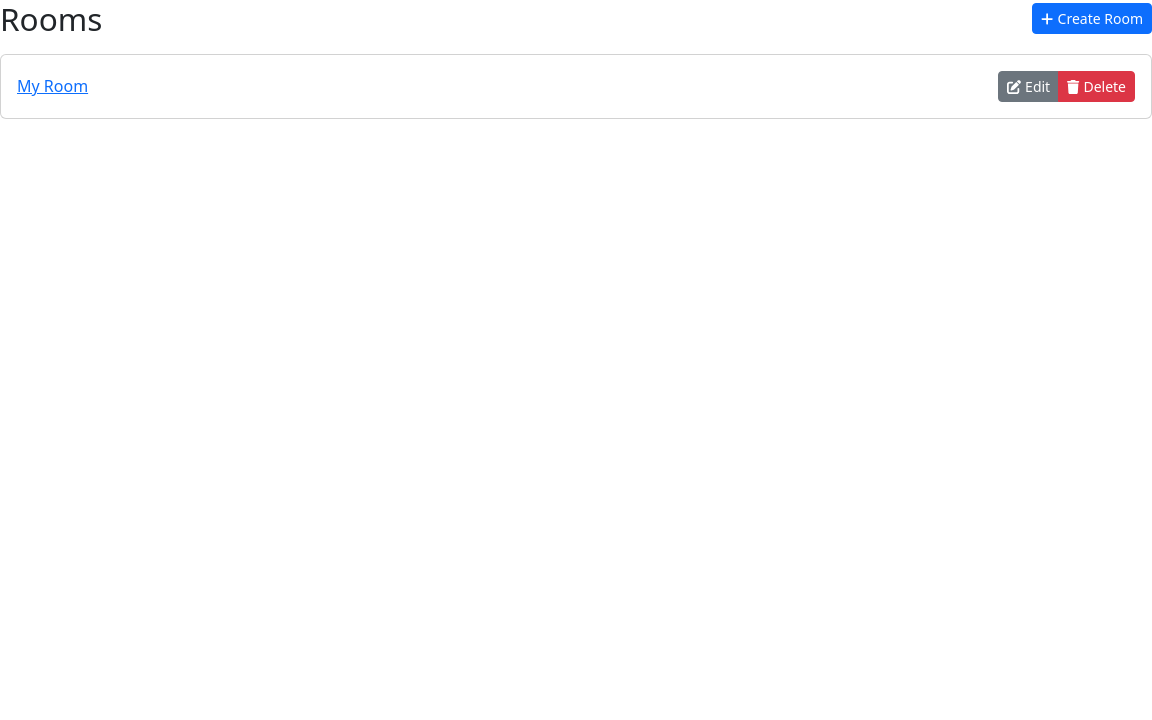
RoomListView › opens deletion modal
The width and height of the screenshot is (1152, 720).
Check: the text "Delete Room 'My Room'" is not shown
Click the button "Delete": (1097, 86) [1058, 71, 1135, 102]
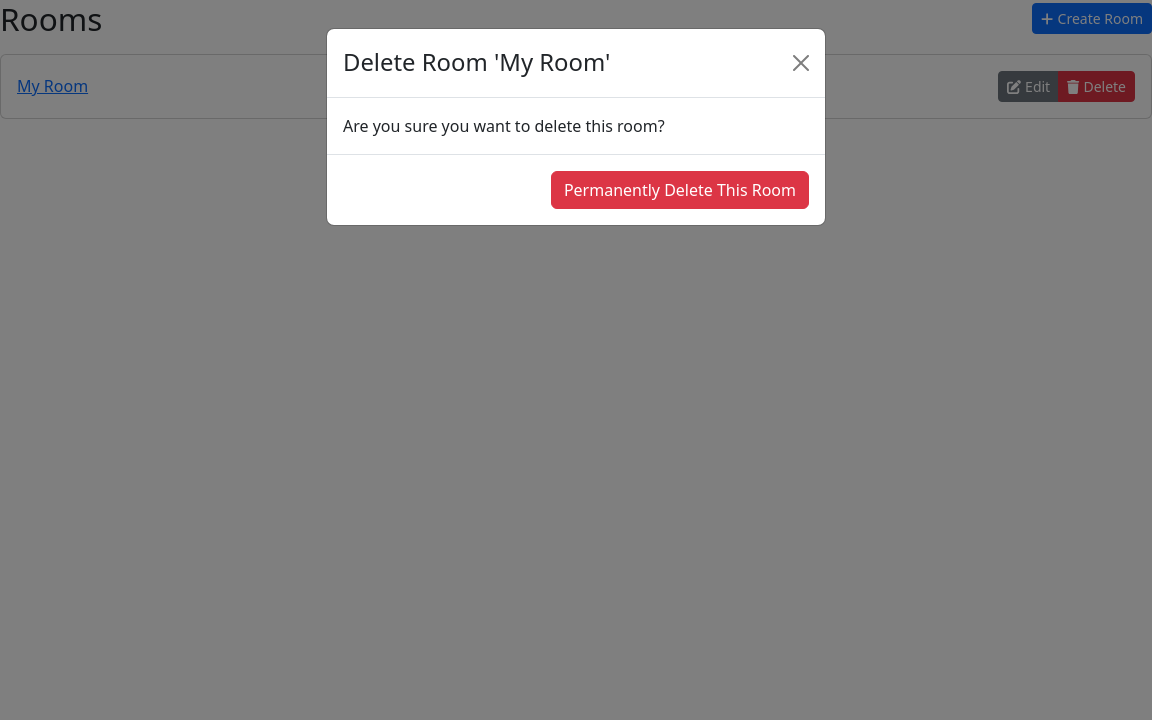
Check: the text "Delete Room 'My Room'" is shown, box [343, 45, 610, 81]
